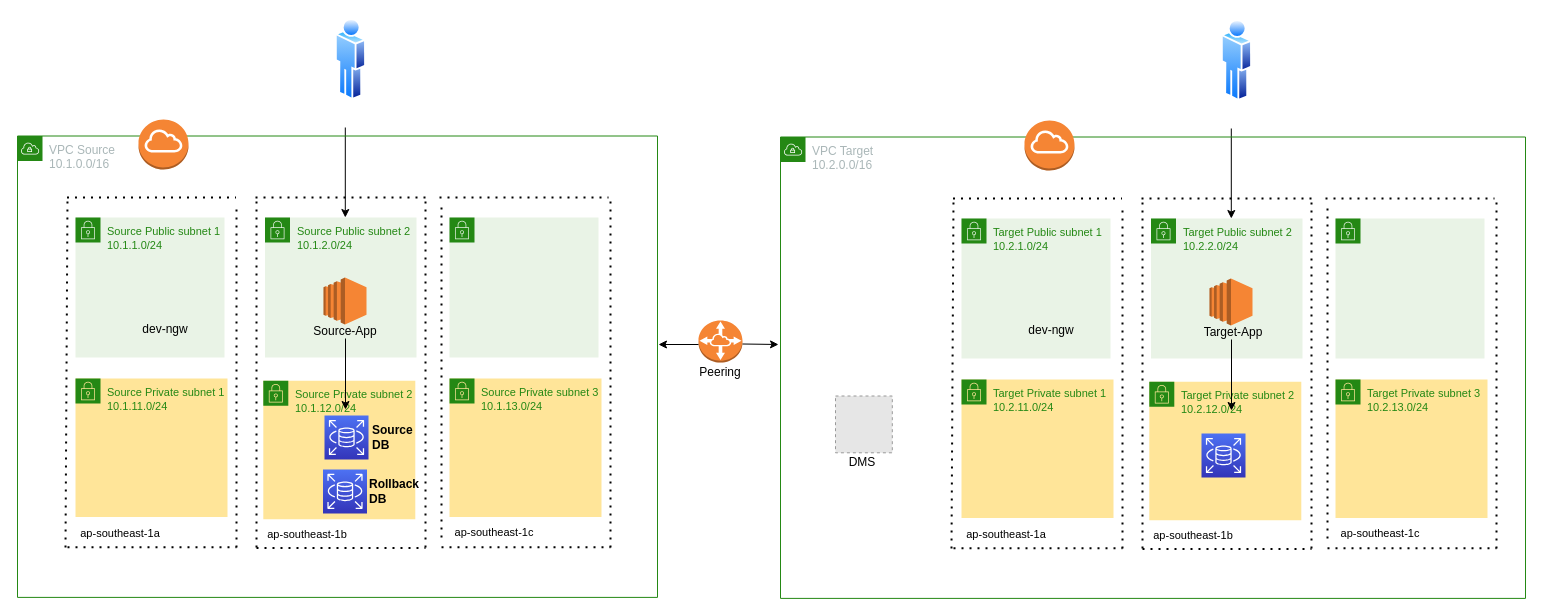
The diagram is 1543 pixels wide and 616 high, and some of its shapes have lost their labels. Grey dashed boxes stand in for pictures. The centre of each missing label's shape, as x and y in pixels:
"Source Public subnet 3 10.1.3.0/24" belongs at point 523,287.
"Target Public subnet 3 10.2.3.0/24" belongs at point 1409,288.
